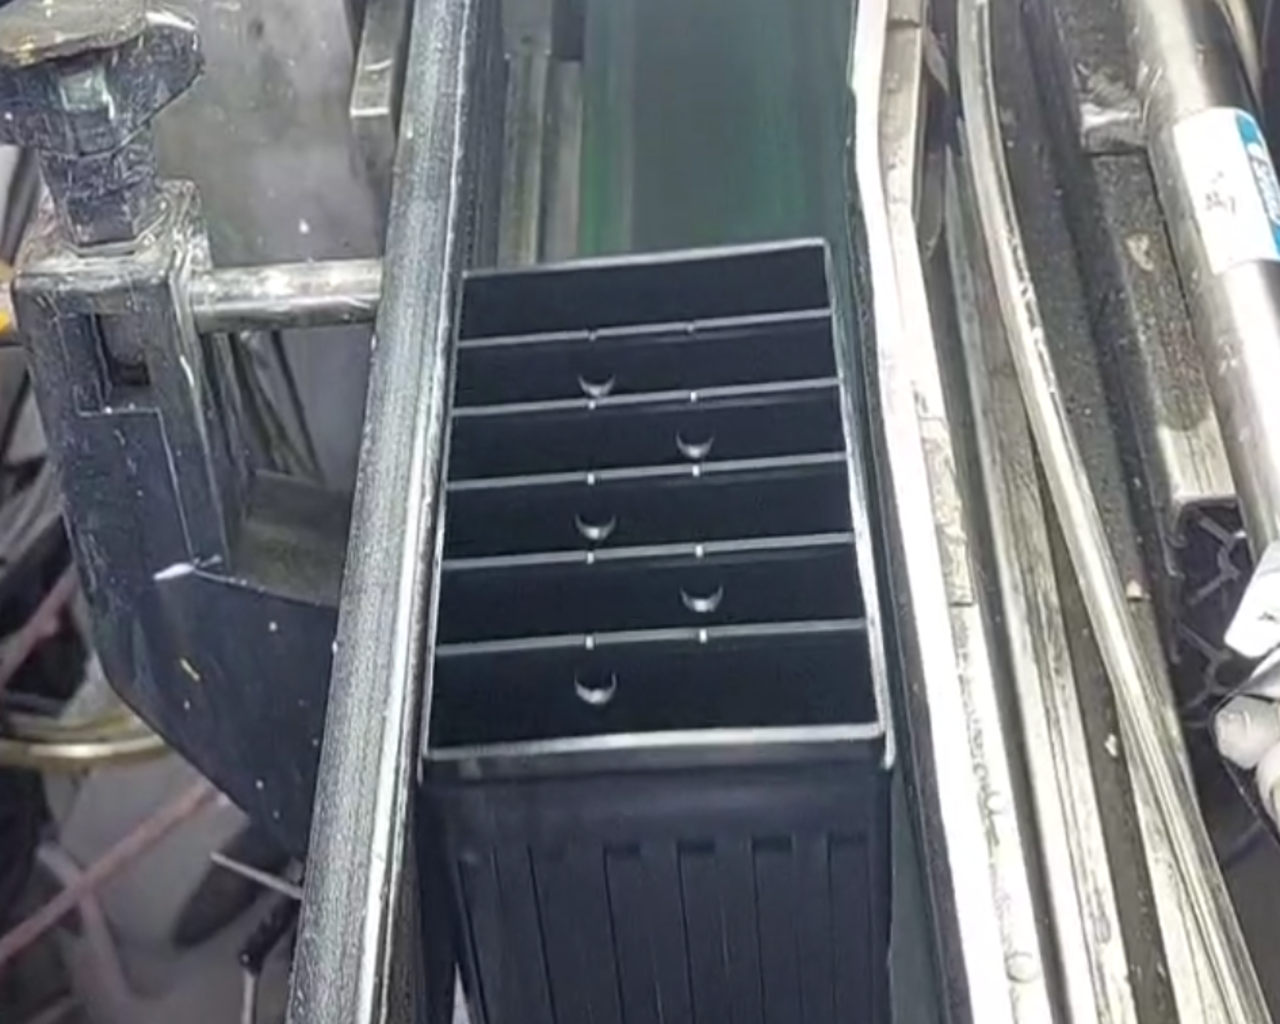box: (405, 220, 921, 802)
round: (553, 650, 633, 716), (658, 558, 736, 622), (560, 489, 633, 550), (660, 405, 730, 467), (565, 347, 627, 405)
